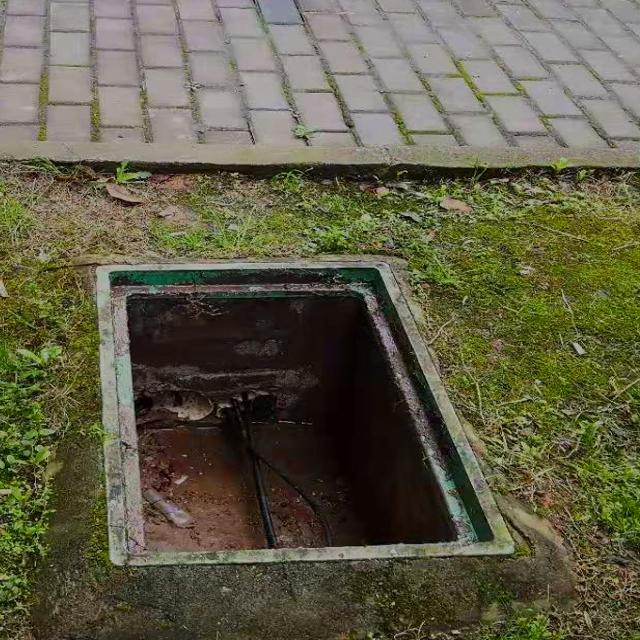lose: (88, 255, 508, 571)
